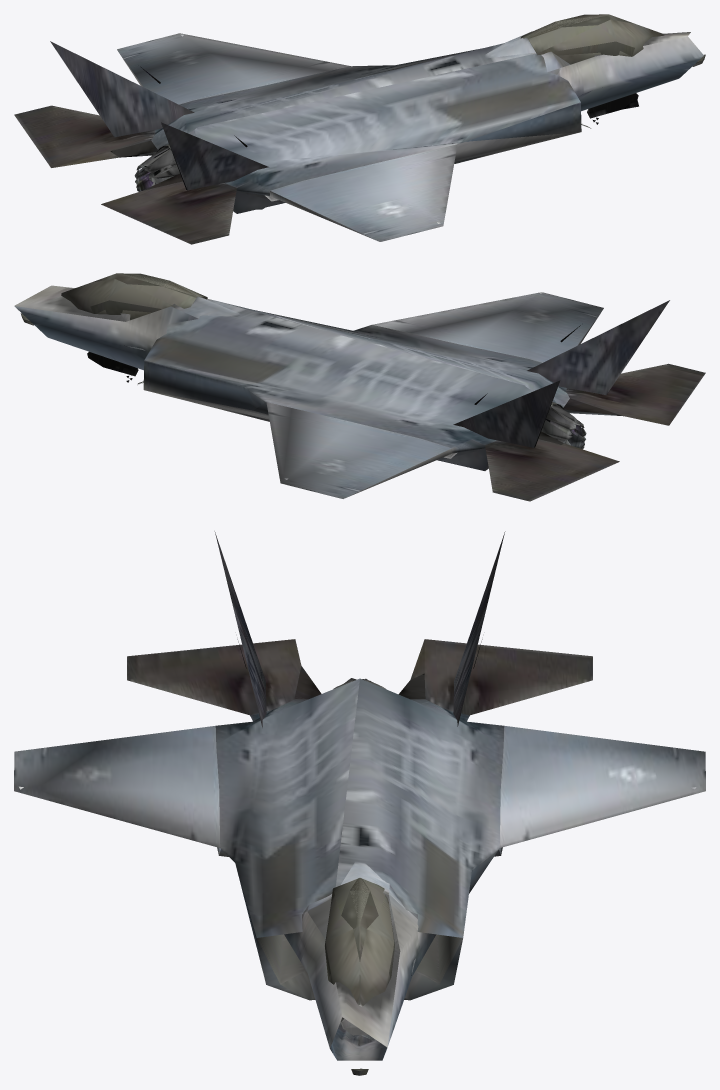
3 renders of one model, top to bottom at view 1: azimuth 30°, elevation 25°; view 2: azimuth 150°, elevation 25°; view 3: azimuth 270°, elevation 25°, orthographic. The views are drawn at different scales.
Visible parts, largest first — view 1: g_f35_hull; view 2: g_f35_hull; view 3: g_f35_hull.
Boxes of the visible parts, x1,y1,x2,y2 form: g_f35_hull: (14,14,705,244); g_f35_hull: (14,273,705,501); g_f35_hull: (14,531,705,1075).
Bounding box in the file's own units: 15.04 × 3.73 × 10.9.
1 material, 1 textured.
